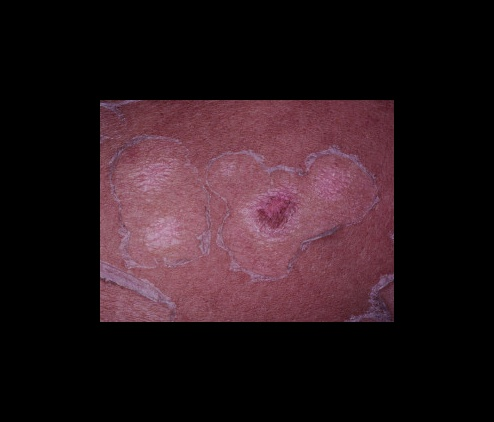SJS-TEN: (99, 98, 395, 323)
